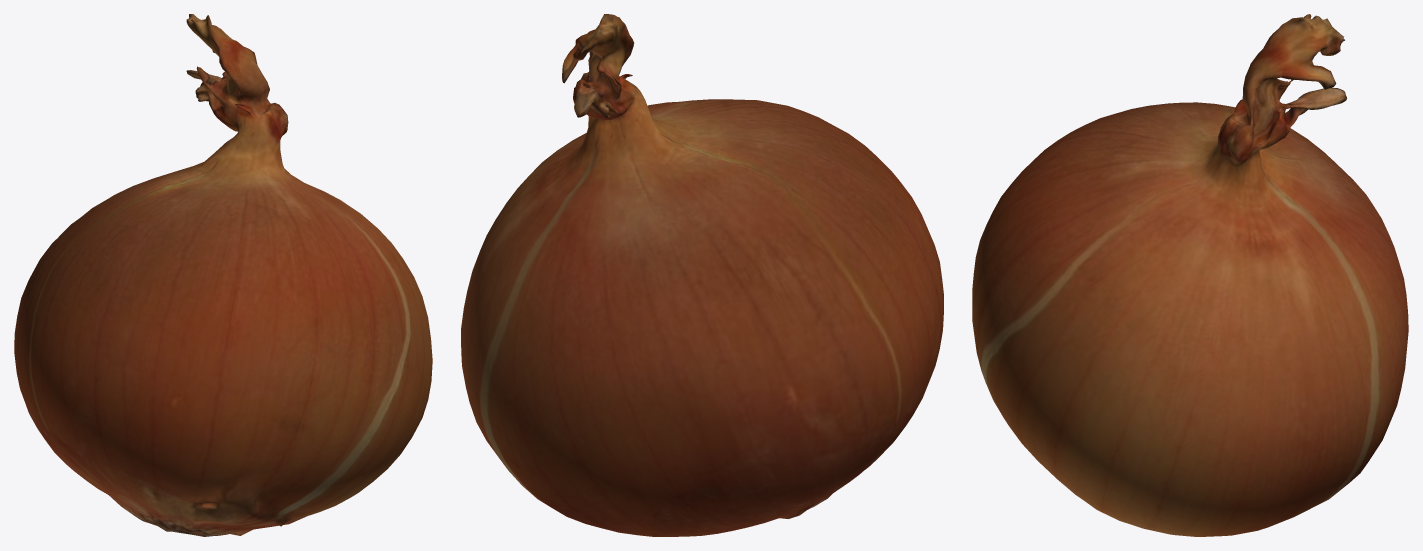
Rendered from yellow_onion.glb.
The picture shows the model from 3 angles, left to right: view 1: azimuth 30°, elevation 25°; view 2: azimuth 150°, elevation 25°; view 3: azimuth 270°, elevation 25°; orthographic projection. The views are drawn at different scales.
Bounding box in the file's own units: 0.0725 × 0.0864 × 0.0686.
1 material, 1 textured.
